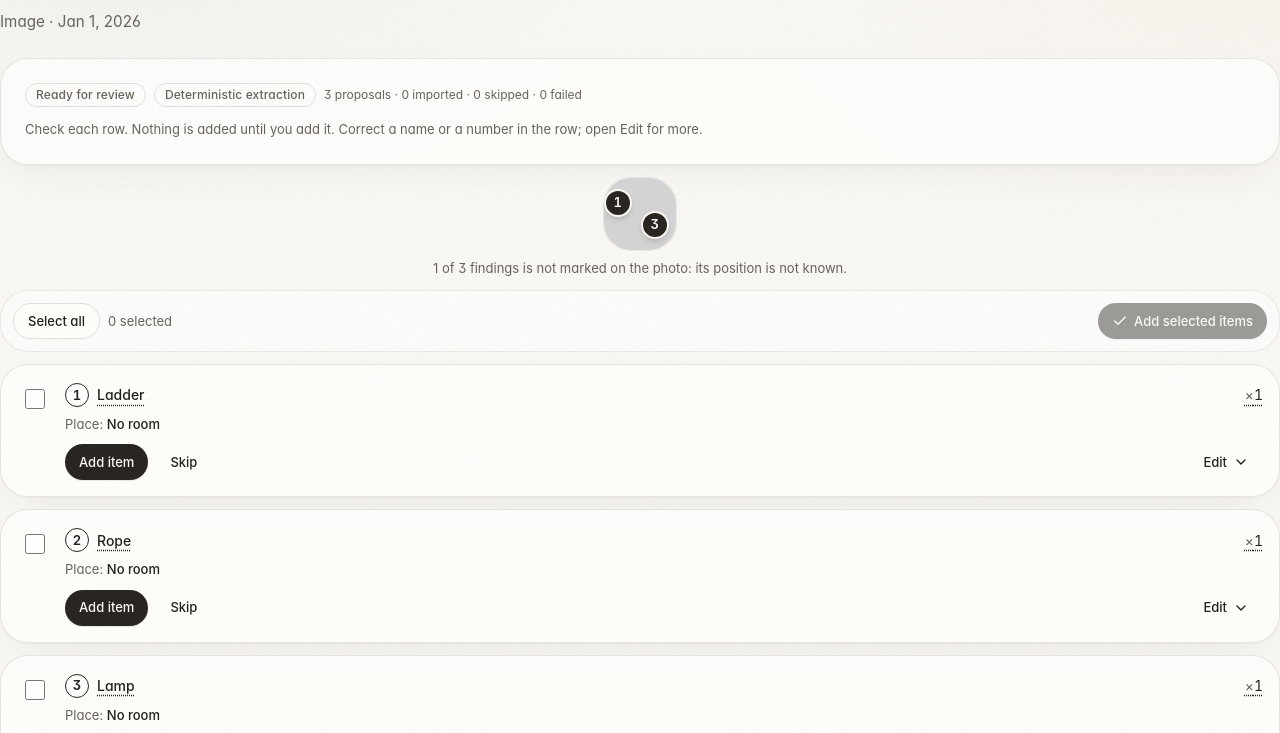
Test case: ImportDetailPage photo findings › uses what is typed in the bar when Add is pressed without Enter, and keeps an earlier edit of the row
Expected: the element "Ladder" is shown, [0,364,1279,497]
// Name, then straight to the quantity without Enter: the name must not go back.
Click the button with aria-label "Edit name of Ladder" at [121, 395], box [97,381,144,409]
(page scrolled)
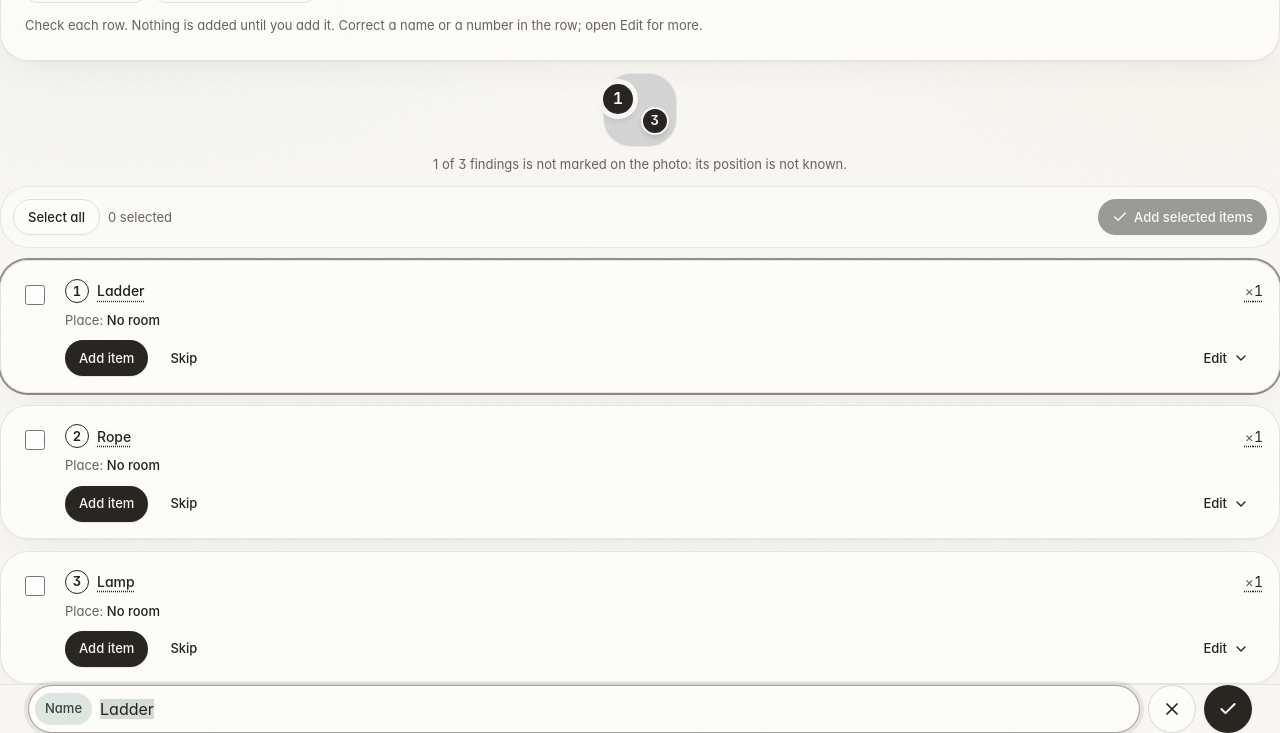
Replace the text in the field with "Step ladder" at [616, 709], box [92,686,1139,732]
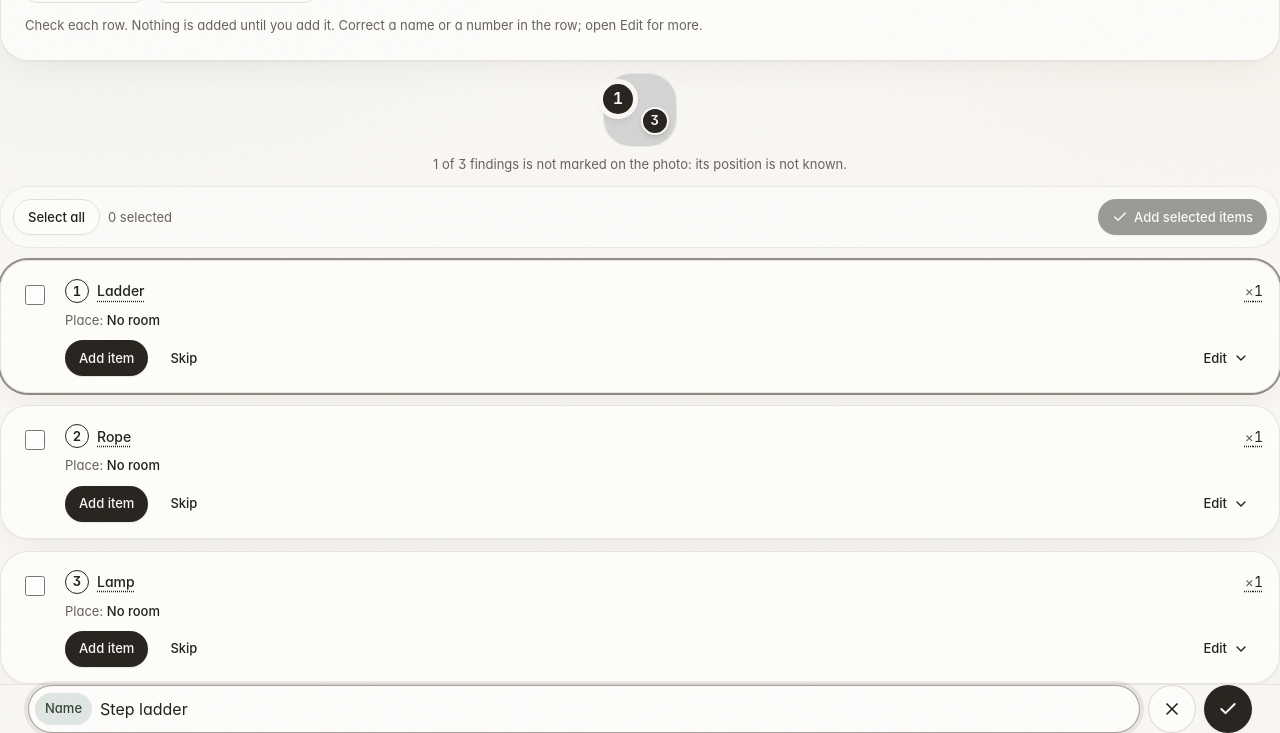
Click the button named "Edit quantity of" at [1254, 291], box [1245,277,1263,305]
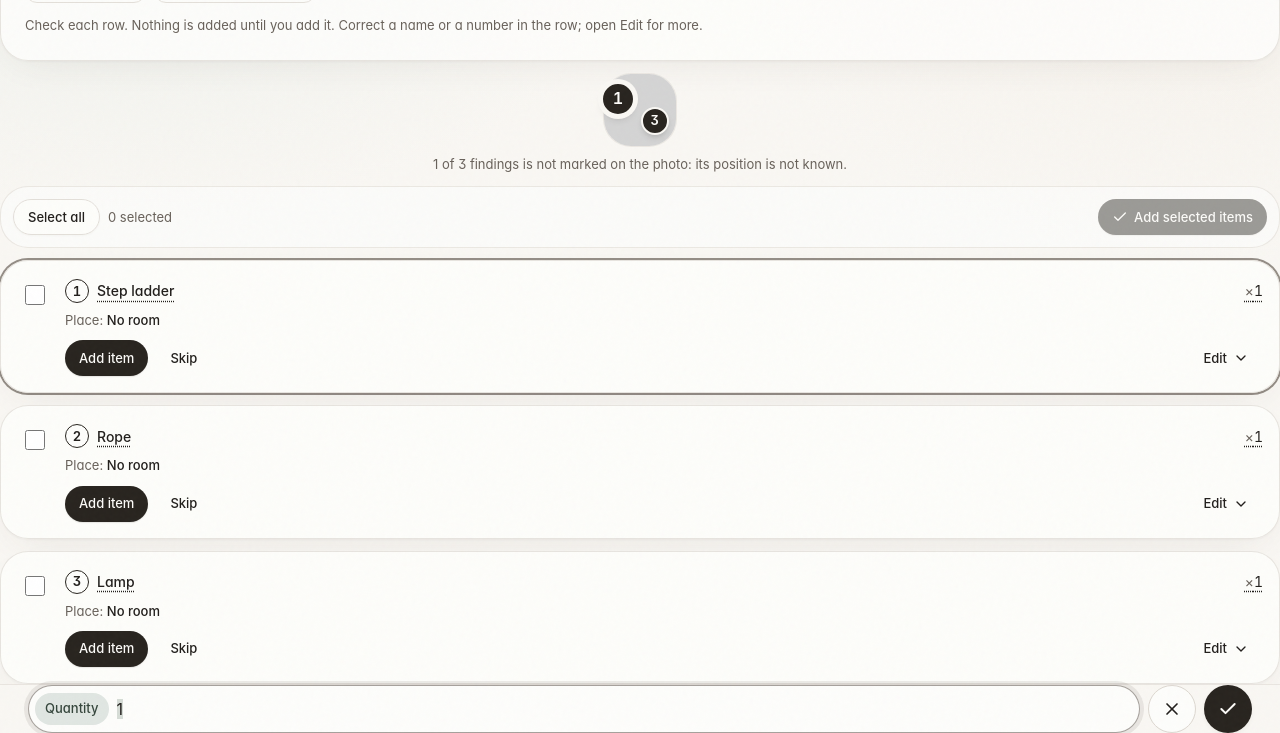
Now the element "Step ladder" is shown, box [0,260,1279,393]
Replace the text in the field with "3" at [624, 709], box [108,686,1139,732]
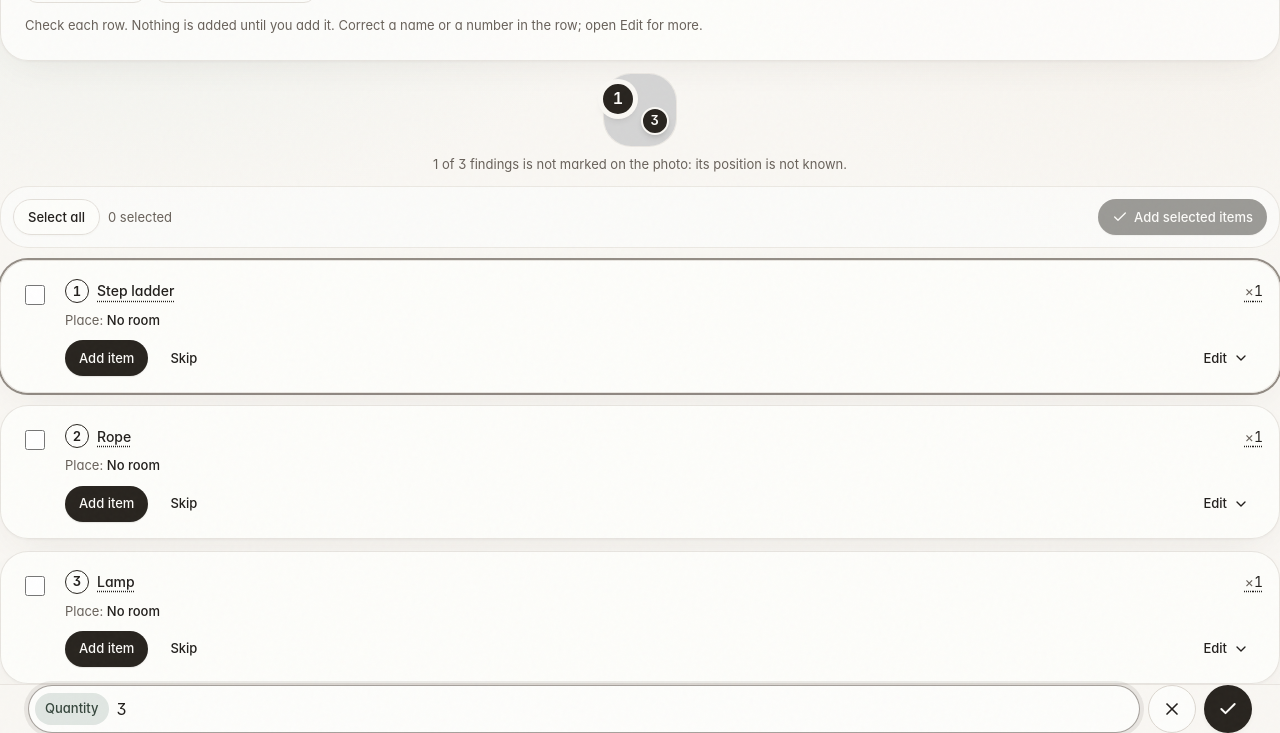
// Add while the quantity is still open in the bar.
Click the 1st button "Add item" at [107, 358], box [65,340,148,376]
(page scrolled)
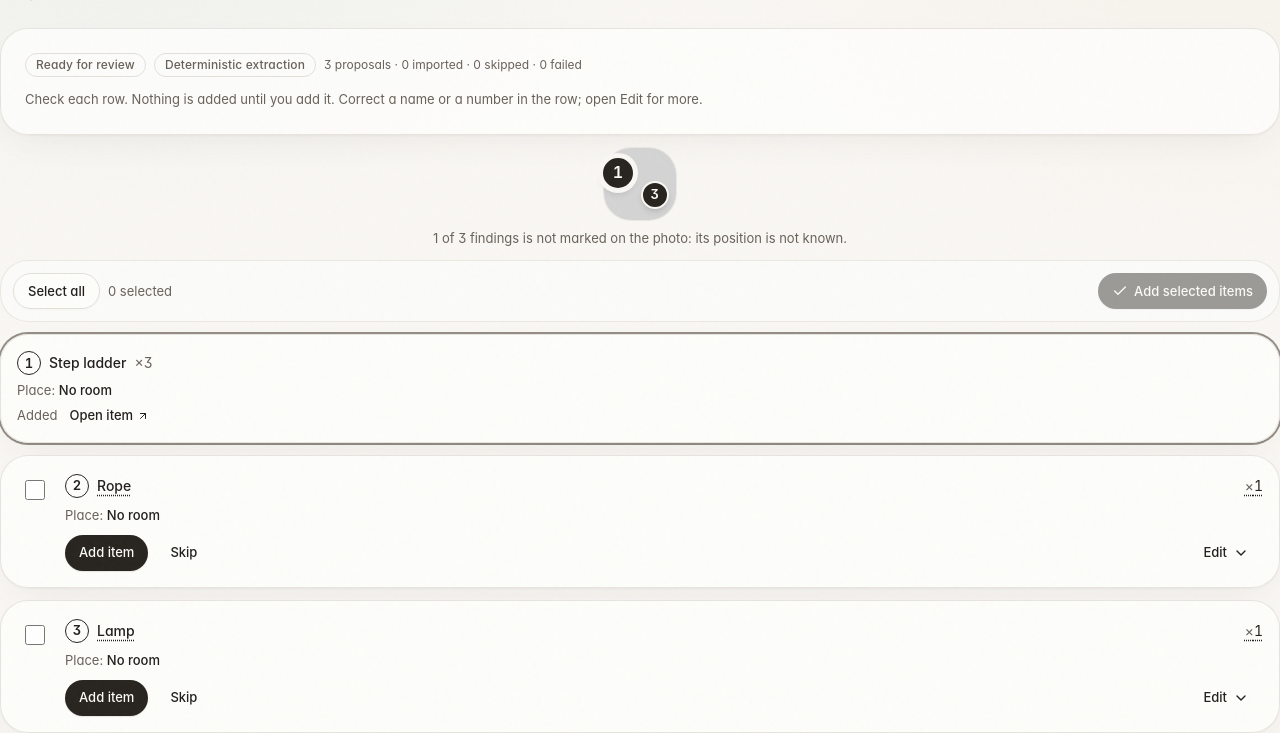
Now the element with test id "bar-editor" is gone
